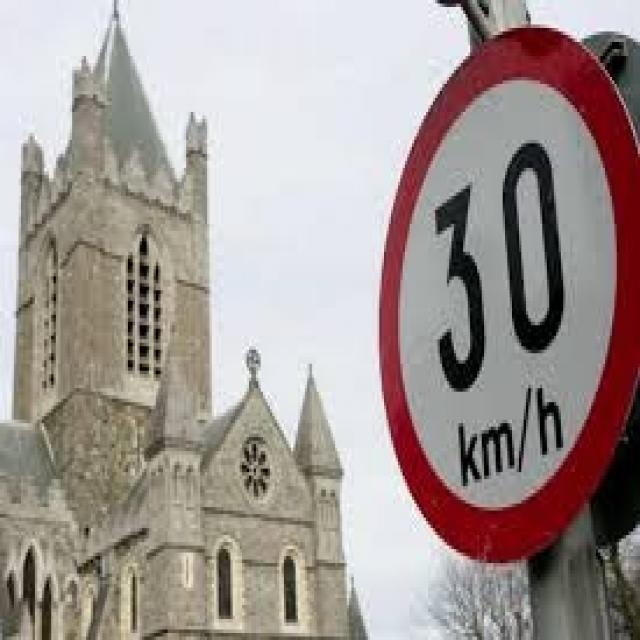speed_limit_30: (370, 21, 640, 570)
